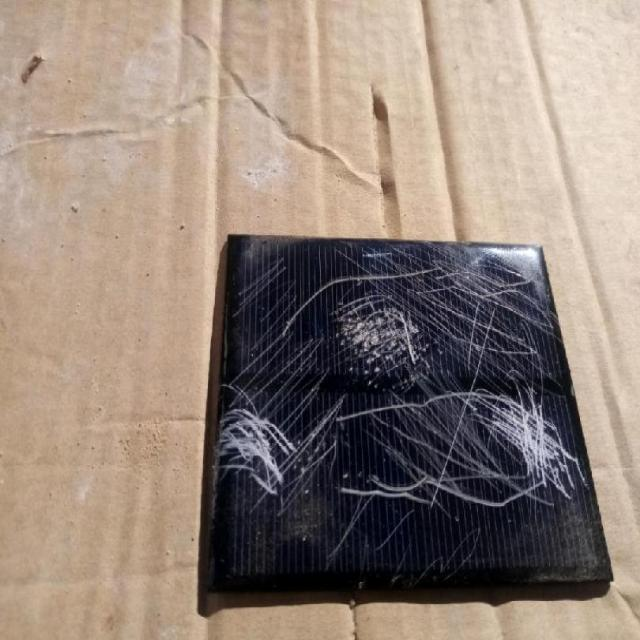faulty: (217, 244, 604, 601)
